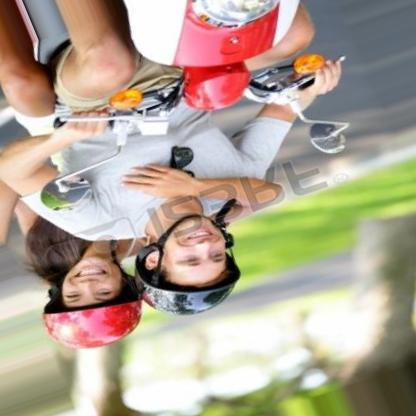with helmet: (133, 214, 240, 319), (44, 259, 143, 349)
